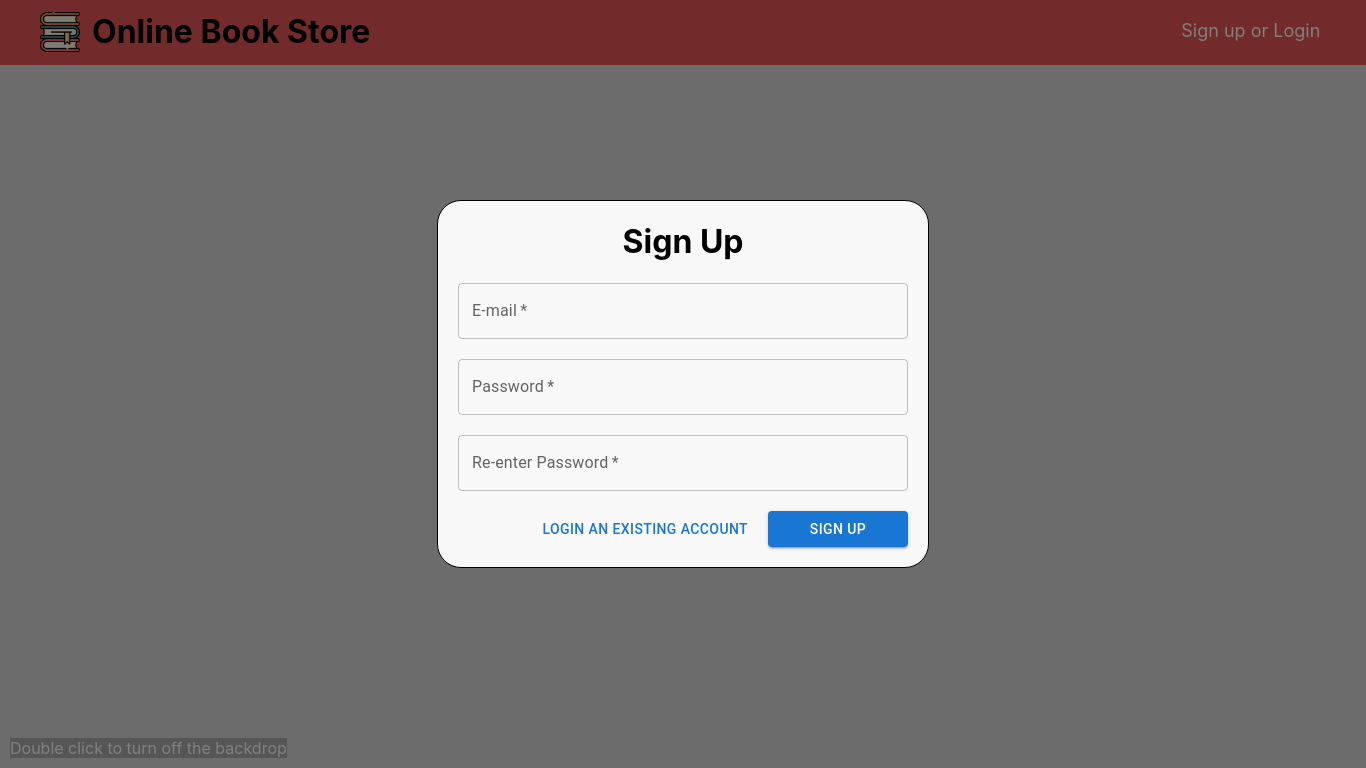
Test: Root › exit the backdrop with double-click on it (outside its form)
Double-click the element with test id "backdrop-for-forms" at (683, 384), box [0, 0, 1365, 767]
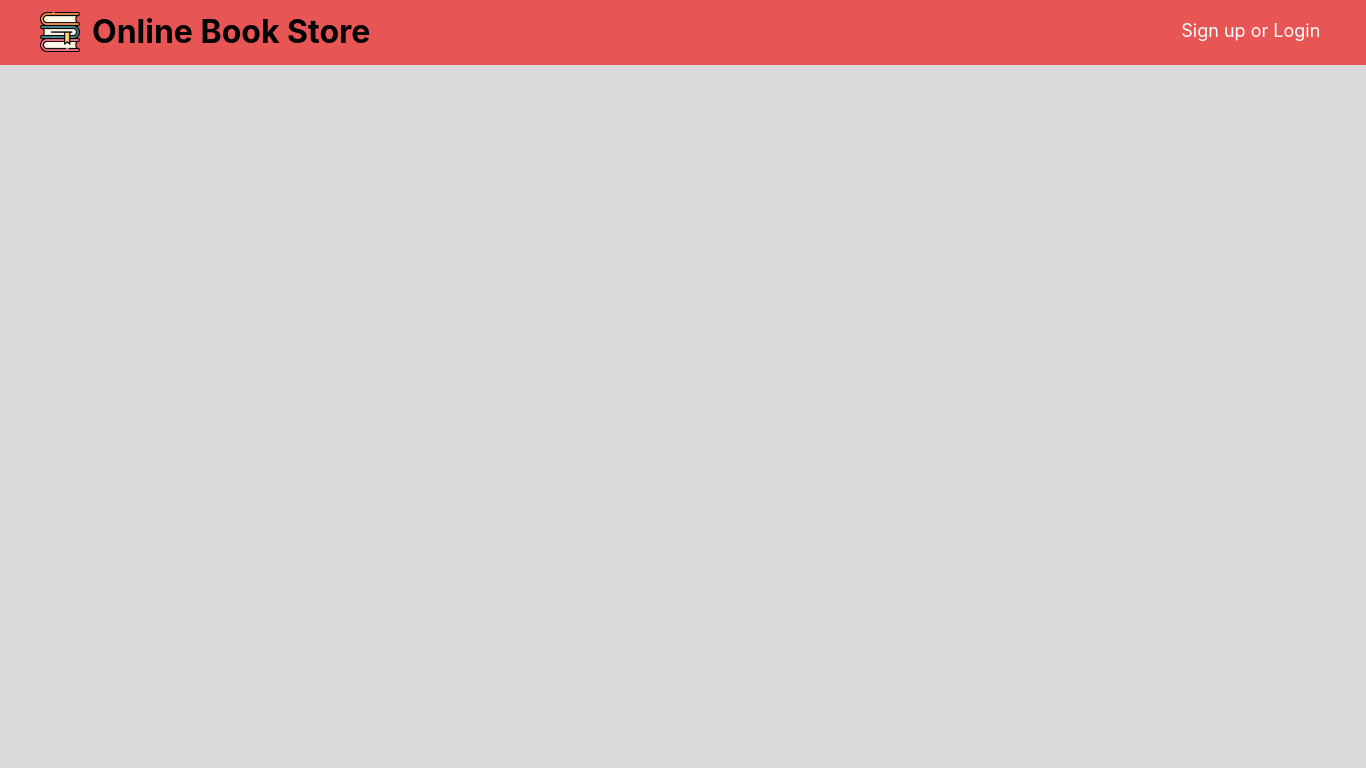
Expected: the element with test id "backdrop-for-forms" is gone
